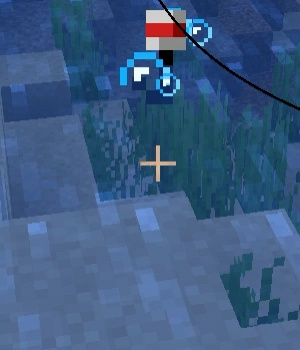up: (127, 8, 194, 103)
